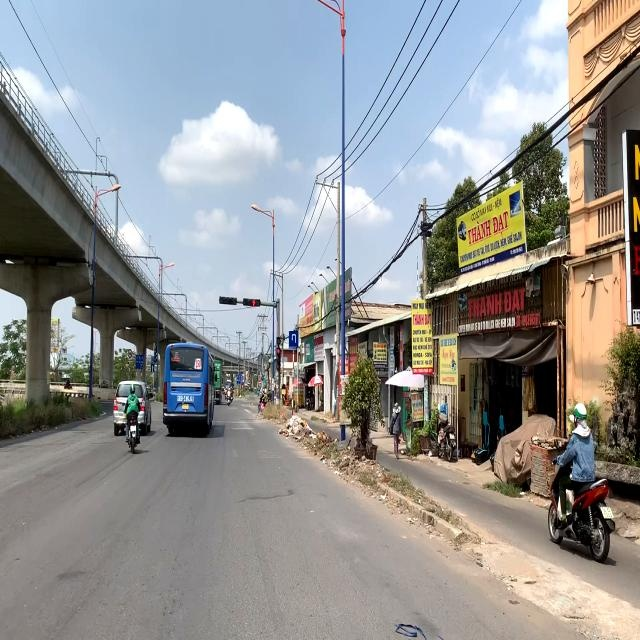bien_chi_dan: (289, 332, 298, 349)
